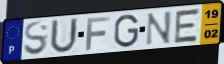E: (172, 7, 202, 45)
F: (84, 16, 112, 52)
G: (113, 13, 140, 49)
N: (144, 10, 173, 47)
S: (23, 20, 50, 57)
U: (48, 17, 79, 55)
